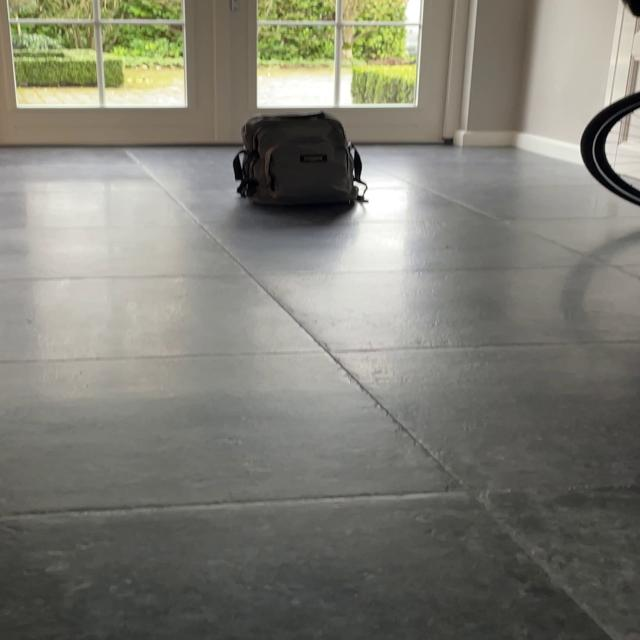backpack: (226, 108, 368, 212)
